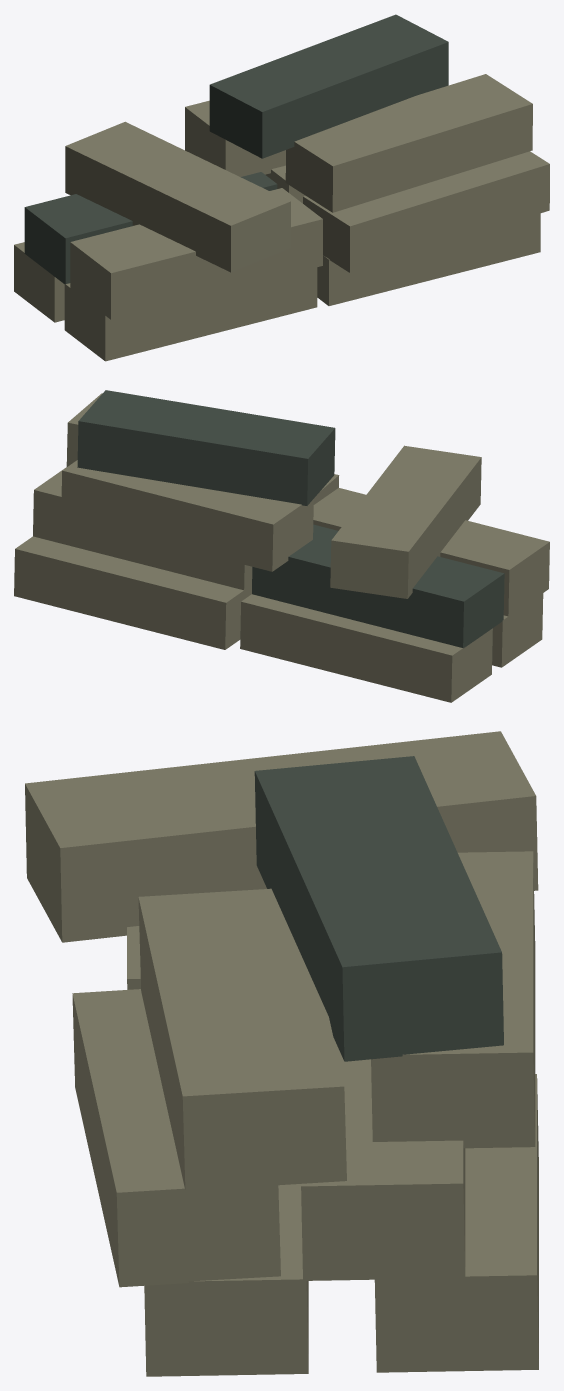
File: Bricks_mat.fbx
3 views of the same model, one above another, from view 1: azimuth 30°, elevation 25°; view 2: azimuth 150°, elevation 25°; view 3: azimuth 270°, elevation 25° (orthographic). The views are drawn at different scales.
Visible parts, largest first — view 1: Bricks_mat; view 2: Bricks_mat; view 3: Bricks_mat.
Part boxes in pixels (x1=…): Bricks_mat: x1=14, y1=14, x2=549, y2=361; Bricks_mat: x1=14, y1=390, x2=549, y2=702; Bricks_mat: x1=25, y1=731, x2=538, y2=1376.
Size of the model in its own units: 0.6862 by 0.2865 by 0.351.
